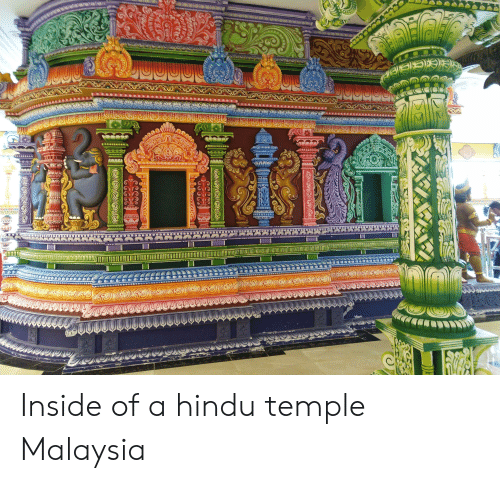Hindu Temple: (4, 7, 435, 323)
